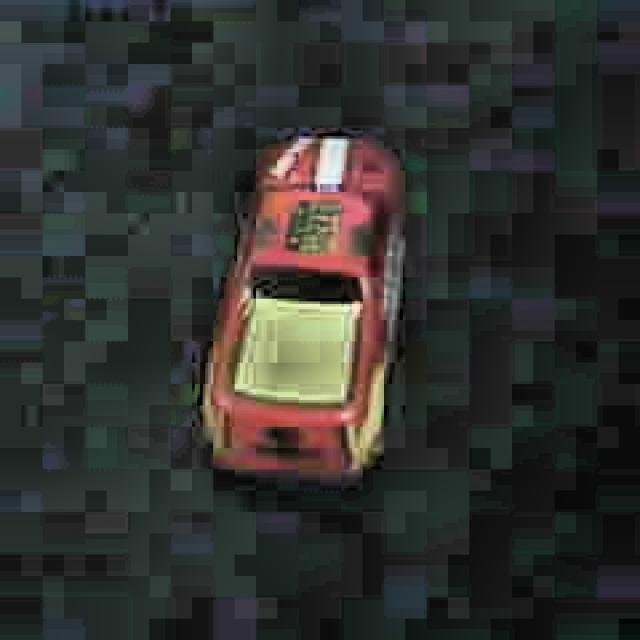car: (189, 119, 417, 490)
